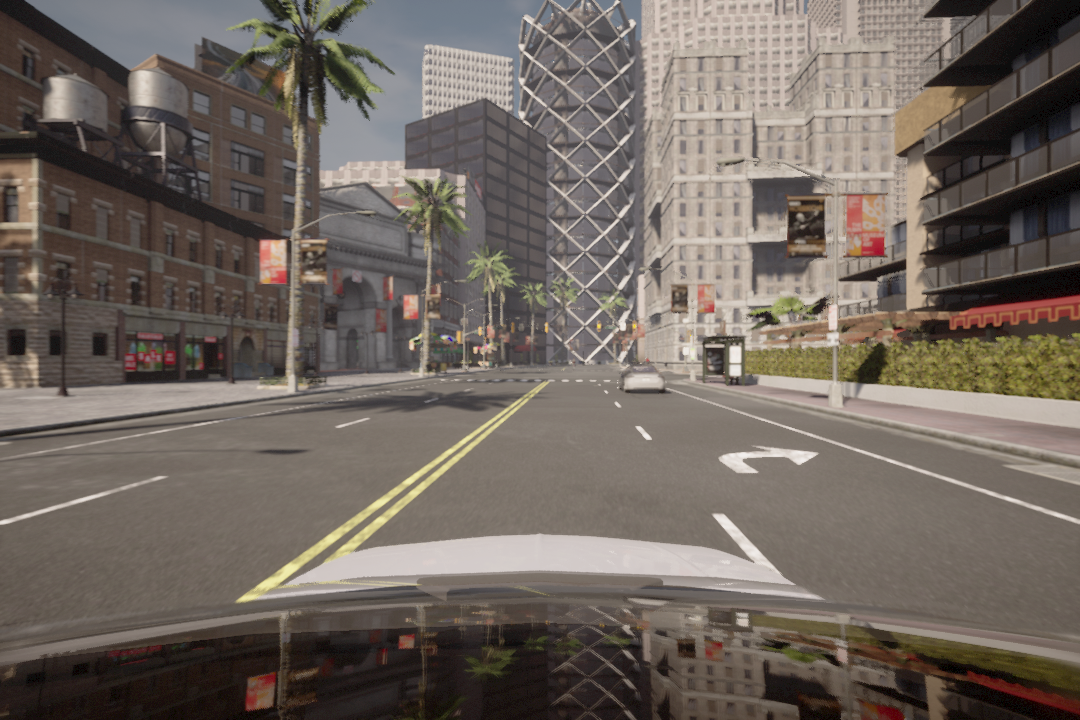RoadSign_right: (711, 444, 829, 479)
walkside: (441, 374, 637, 384)
